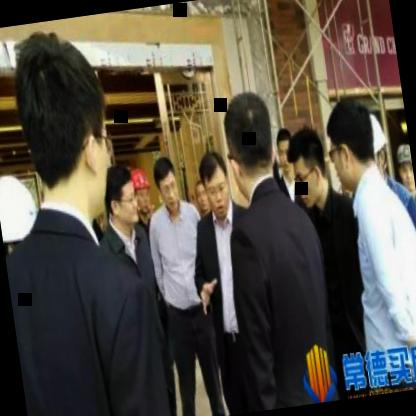head: (9, 26, 123, 222), (216, 82, 281, 198), (320, 87, 384, 198), (282, 119, 334, 214), (194, 142, 236, 224), (99, 161, 143, 233), (149, 150, 183, 214), (269, 121, 299, 185), (388, 134, 416, 193)
helmet: (126, 164, 156, 226)
